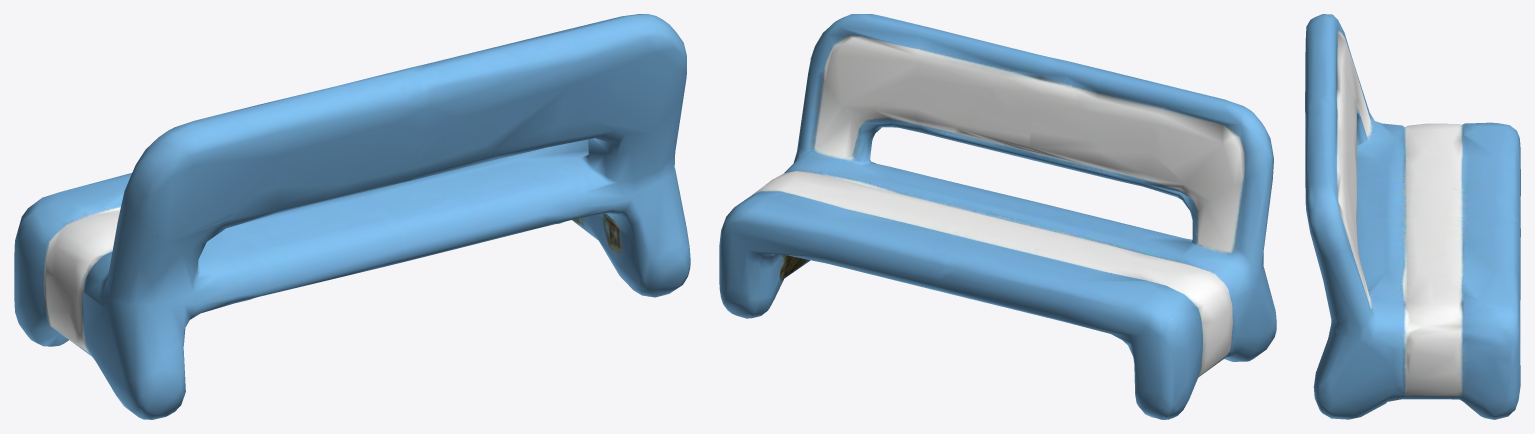
The model's file is banco.glb.
The picture shows the model from 3 angles, left to right: view 1: azimuth 30°, elevation 25°; view 2: azimuth 150°, elevation 25°; view 3: azimuth 270°, elevation 25°; orthographic projection. The views are drawn at different scales.
Visible parts, largest first — view 1: tripo_node_f0092b1b-6ca7-4e2b-a4f6-cc22dad875df; view 2: tripo_node_f0092b1b-6ca7-4e2b-a4f6-cc22dad875df; view 3: tripo_node_f0092b1b-6ca7-4e2b-a4f6-cc22dad875df.
Part boxes in pixels (box(x1,y1,x2,y2)): tripo_node_f0092b1b-6ca7-4e2b-a4f6-cc22dad875df: box(14, 14, 690, 419); tripo_node_f0092b1b-6ca7-4e2b-a4f6-cc22dad875df: box(719, 14, 1276, 419); tripo_node_f0092b1b-6ca7-4e2b-a4f6-cc22dad875df: box(1305, 14, 1520, 419).
Bounding box in the file's own units: 0.9999 × 0.4989 × 0.4349.
1 material, 1 textured.
